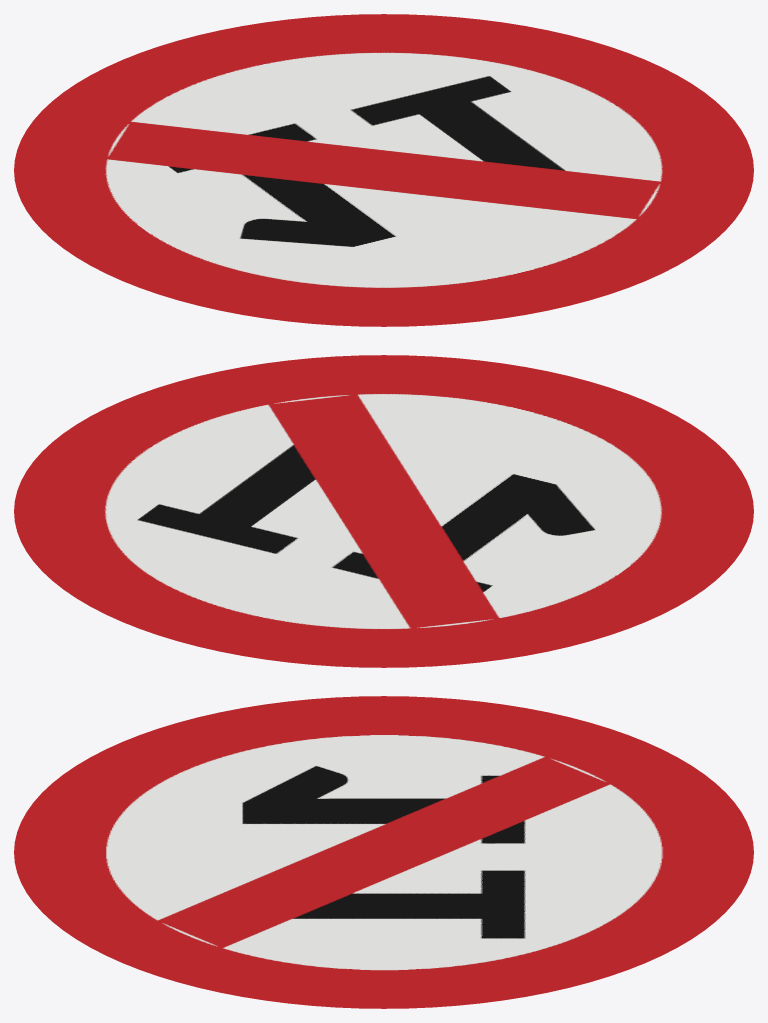
Rendered from stage_11_bitis.obj.
The picture shows the model from 3 angles, top to bottom: view 1: azimuth 30°, elevation 25°; view 2: azimuth 150°, elevation 25°; view 3: azimuth 270°, elevation 25°; orthographic projection.
Visible parts, largest first — view 1: stage_11_bitis; view 2: stage_11_bitis; view 3: stage_11_bitis.
Boxes of the visible parts, bbox=[...] form: stage_11_bitis: bbox=[14, 14, 753, 326]; stage_11_bitis: bbox=[14, 355, 753, 667]; stage_11_bitis: bbox=[14, 696, 753, 1008].
Bounding box in the file's own units: 0.6 × 0 × 0.6.
1 material, 1 textured.
